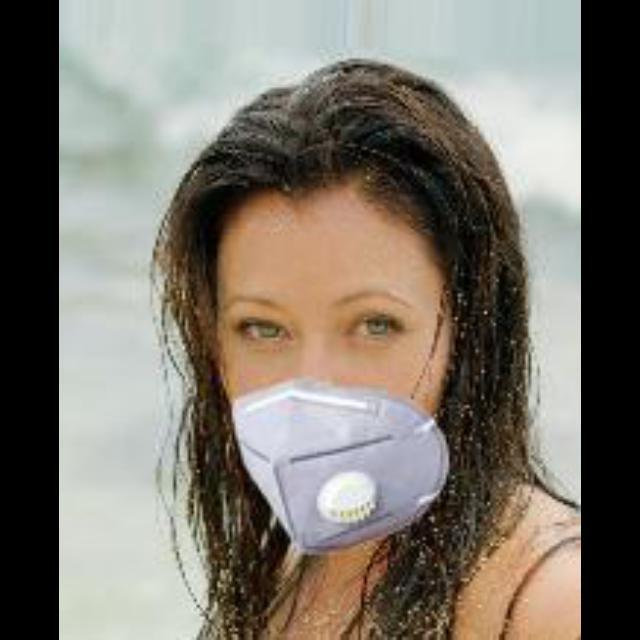suspicion: (181, 127, 489, 558)
